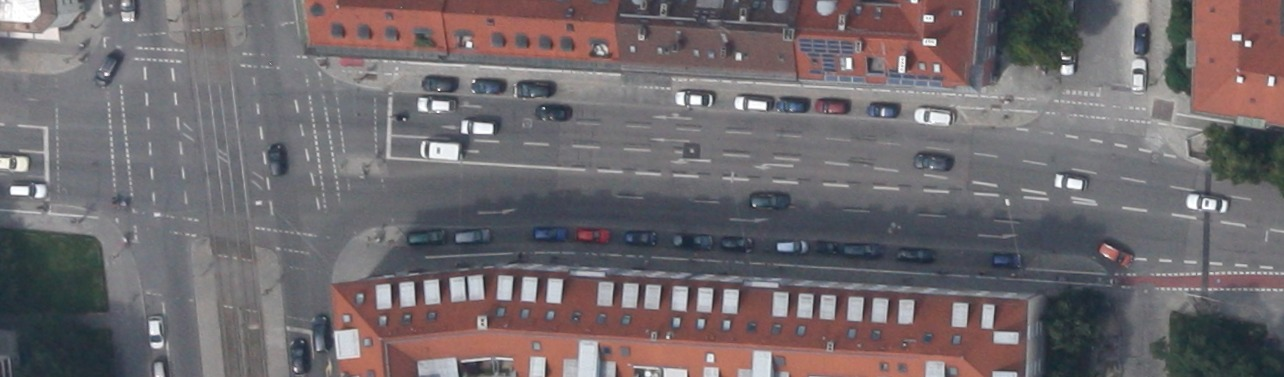car: (91, 52, 121, 88), (1097, 240, 1134, 269), (1184, 191, 1230, 213), (911, 151, 953, 172), (913, 107, 953, 126), (513, 79, 553, 97), (895, 246, 935, 264), (289, 338, 309, 373), (671, 232, 712, 249), (749, 192, 789, 209), (266, 143, 287, 175), (416, 96, 455, 113), (406, 228, 445, 245), (312, 315, 330, 351), (674, 90, 712, 107), (1053, 172, 1087, 191), (865, 99, 900, 117), (843, 243, 883, 258), (535, 104, 572, 120), (454, 228, 490, 244), (733, 95, 771, 110), (9, 183, 46, 198), (420, 75, 457, 90), (459, 119, 496, 134), (147, 315, 163, 349), (776, 95, 808, 112), (533, 225, 565, 242), (774, 238, 808, 254), (816, 97, 849, 113), (624, 229, 657, 245), (991, 251, 1022, 268), (1059, 40, 1074, 75), (470, 78, 502, 94), (1133, 24, 1150, 54), (721, 236, 752, 252), (576, 228, 609, 243), (1131, 58, 1145, 91), (814, 240, 838, 254)
